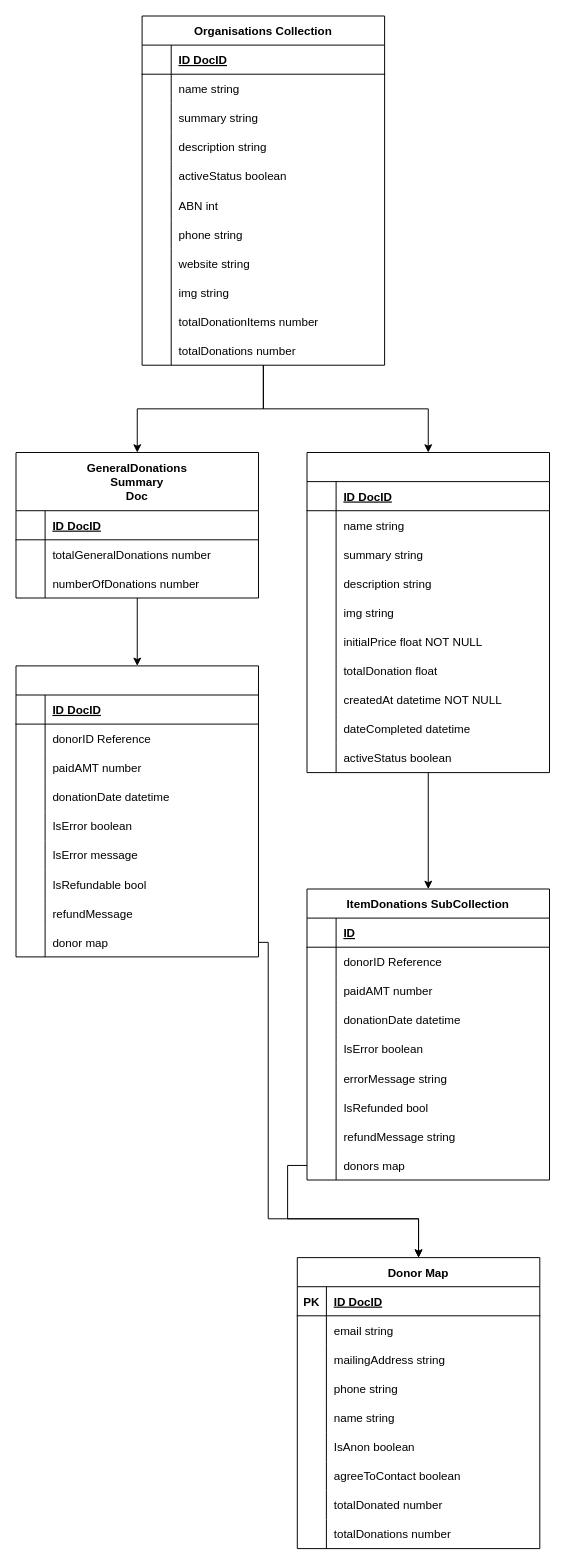
This 566x1565 diagram has some shape labels left out. Each missing label, with the box of its shape:
GeneralDonations SubCollection: (15, 665, 259, 957)
Items SubCollection: (306, 452, 550, 773)
